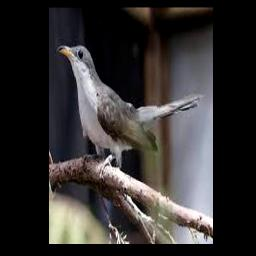Cuckoo: (57, 44, 204, 177)
